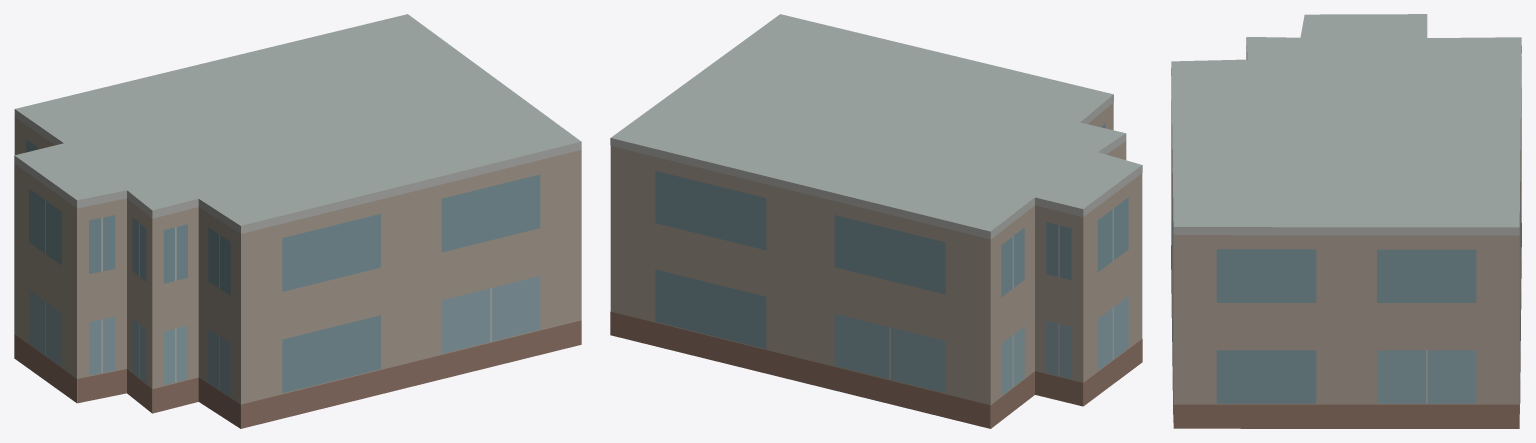
Rendered from survey-upis-32818098.glb.
3 views of the same model, side by side, from view 1: azimuth 30°, elevation 25°; view 2: azimuth 150°, elevation 25°; view 3: azimuth 270°, elevation 25° (orthographic). The views are drawn at different scales.
Parts seen in each view (by area): view 1: survey-upis-32818098.tmp; view 2: survey-upis-32818098.tmp; view 3: survey-upis-32818098.tmp.
Boxes of the visible parts, x1=… form: survey-upis-32818098.tmp: x1=14, y1=14, x2=581, y2=428; survey-upis-32818098.tmp: x1=610, y1=14, x2=1142, y2=428; survey-upis-32818098.tmp: x1=1171, y1=14, x2=1521, y2=428.
Size of the model in its own units: 13.85 by 6.1 by 9.62.
